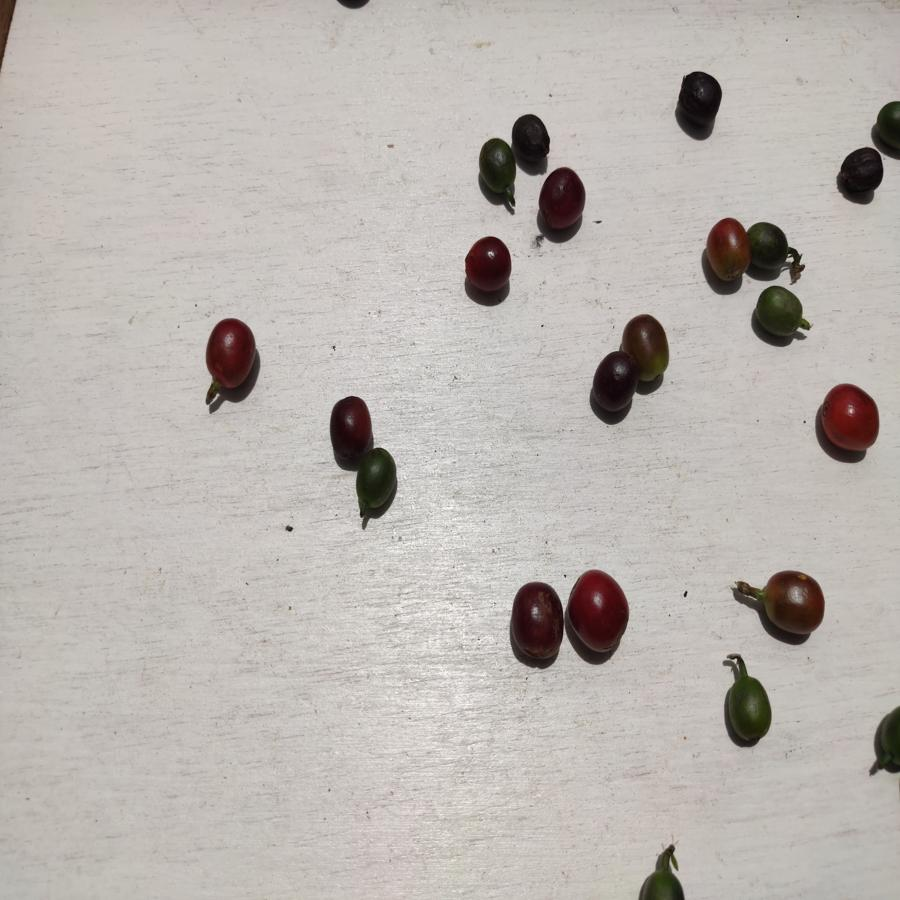Inmaduro: (723, 677, 774, 745), (751, 283, 805, 342), (354, 448, 400, 511), (748, 222, 792, 271), (478, 138, 515, 195), (638, 870, 695, 900)
Maduro: (568, 569, 632, 656), (818, 382, 882, 453), (205, 315, 257, 390), (705, 215, 749, 283)
Pinton: (759, 567, 831, 635), (623, 311, 671, 384)
Sobremaduro: (507, 579, 565, 662), (674, 66, 726, 129), (538, 166, 585, 232), (327, 392, 377, 450), (591, 350, 636, 412), (465, 234, 513, 292), (835, 148, 884, 194), (511, 112, 550, 161)
